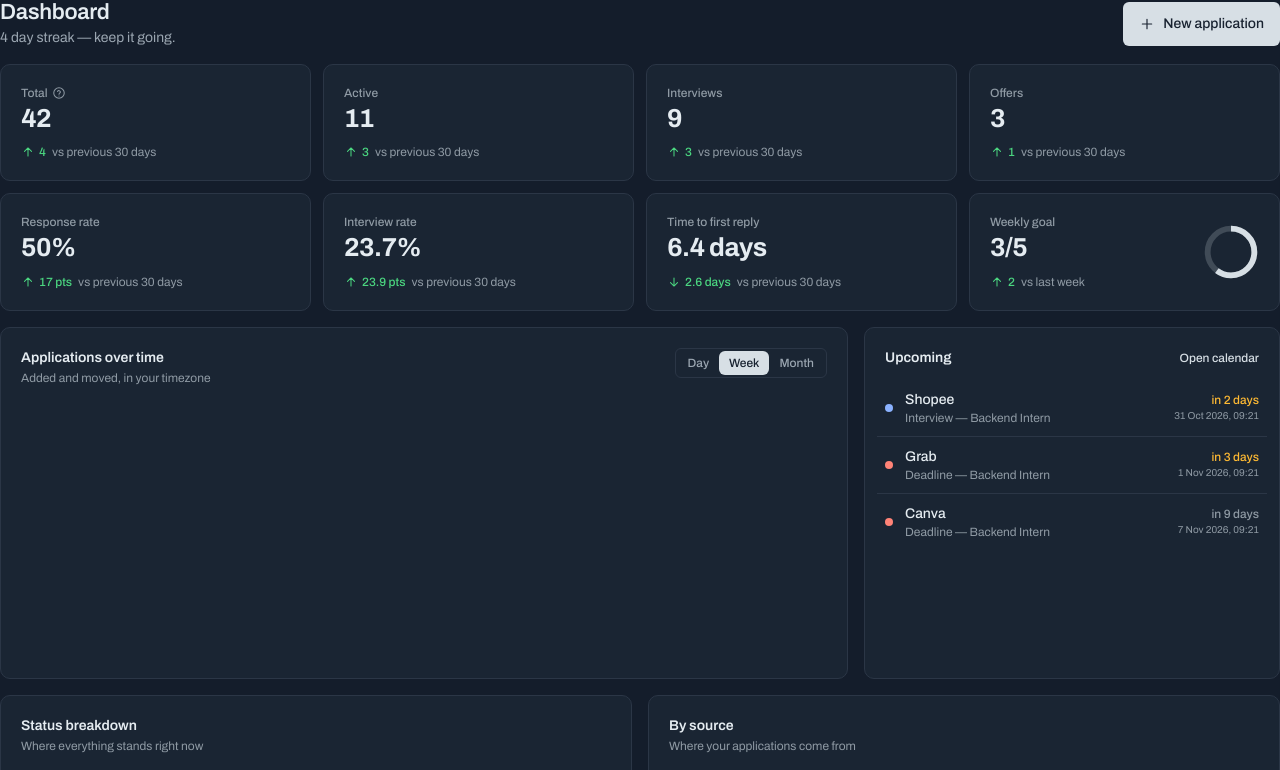
Test: dashboard › stat cards › says on the Total card that it includes archived applications
What coordinates should you click on to do the following:
click the button named "About Total"
I would click on:
 (58, 93)
Its box is top-left (52, 86), bottom-right (66, 100).
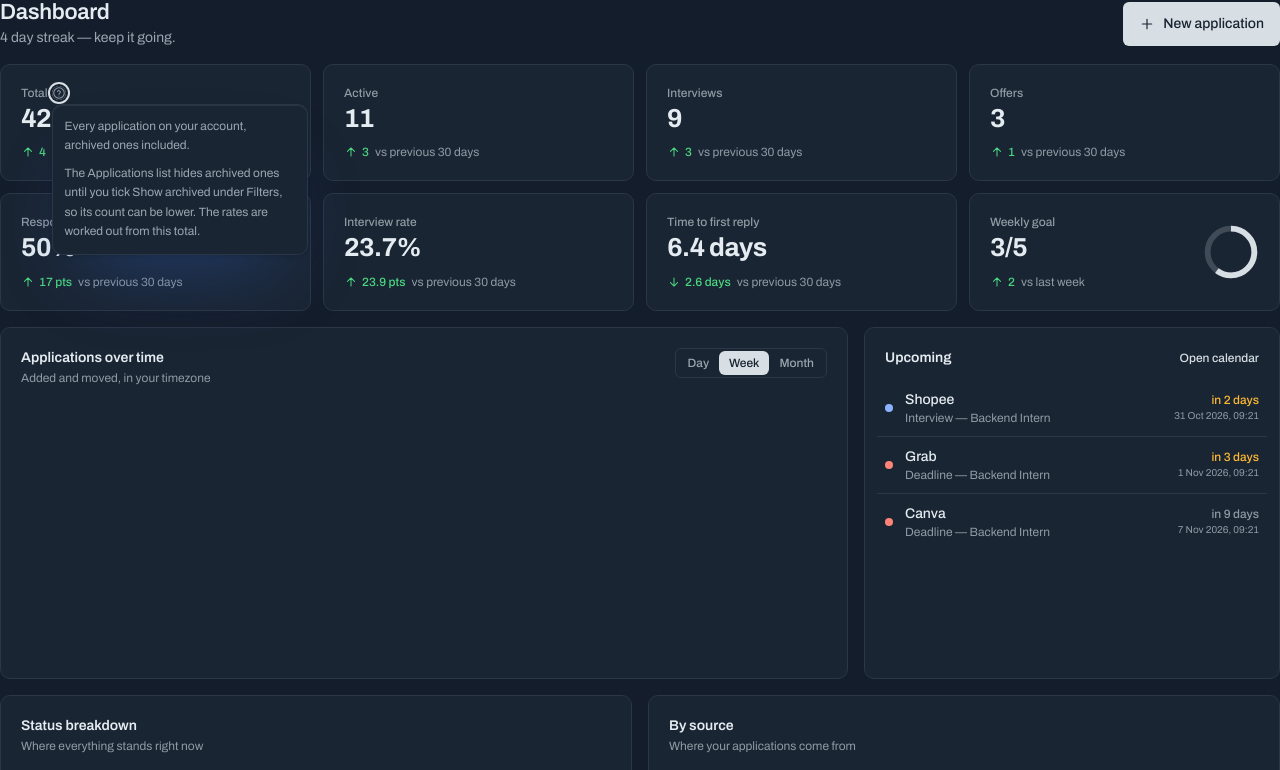
Result: the text "Every application on your account, archived ones included." is shown at top-left (64, 119), bottom-right (247, 152)
